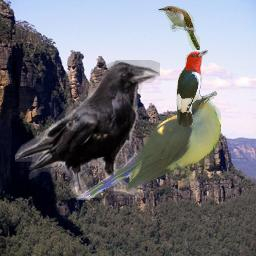Crow: (15, 60, 160, 198)
Cuckoo: (75, 96, 221, 200), (158, 6, 200, 50)
Woodpecker: (176, 50, 217, 127)
